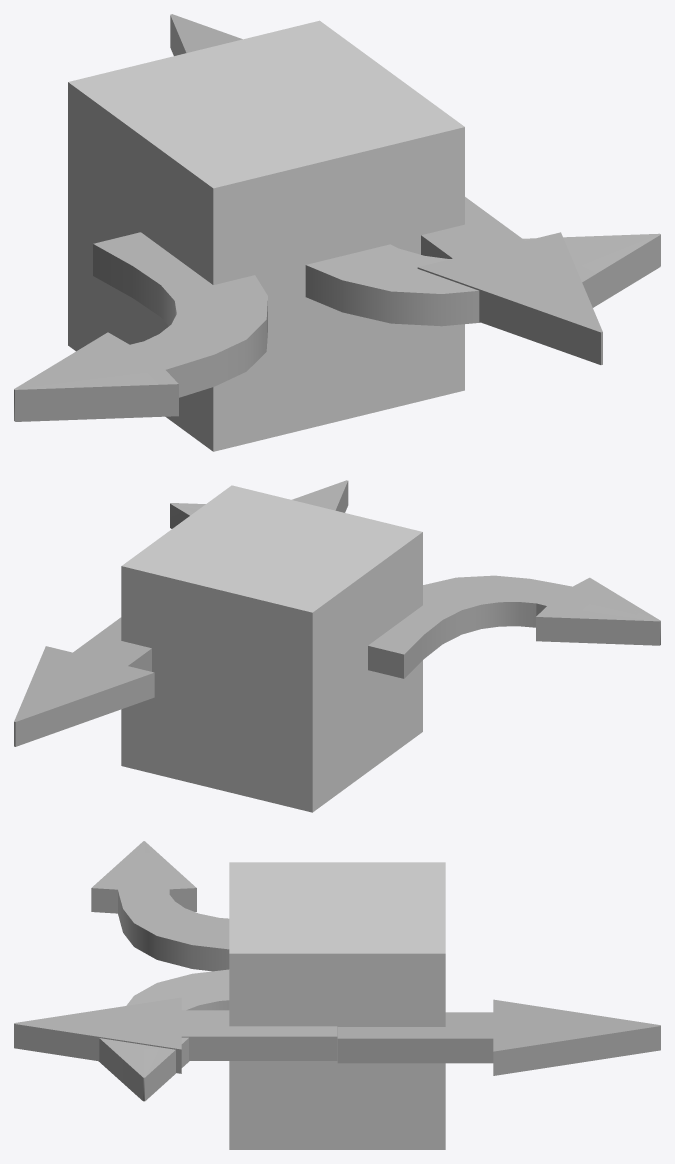
File: player_arrow.glb
The picture shows the model from 3 angles, top to bottom: view 1: azimuth 30°, elevation 25°; view 2: azimuth 150°, elevation 25°; view 3: azimuth 270°, elevation 25°; orthographic projection. The views are drawn at different scales.
Visible parts, largest first — view 1: leftReturnArrow, leftArrow, upArrow, rightArrow, downArrow; view 2: leftReturnArrow, leftArrow, downArrow, upArrow, rightArrow; view 3: leftReturnArrow, downArrow, upArrow, leftArrow, rightArrow.
Boxes of the visible parts, left/top/right/bottom form: leftReturnArrow: left=68, top=20, right=464, bottom=451; leftArrow: left=14, top=232, right=267, bottom=421; upArrow: left=417, top=197, right=602, bottom=364; rightArrow: left=305, top=233, right=660, bottom=326; downArrow: left=170, top=14, right=242, bottom=55; leftReturnArrow: left=121, top=485, right=422, bottom=812; leftArrow: left=368, top=575, right=660, bottom=678; downArrow: left=14, top=617, right=154, bottom=746; upArrow: left=292, top=480, right=348, bottom=512; rightArrow: left=170, top=503, right=205, bottom=528; leftReturnArrow: left=229, top=862, right=445, bottom=1149; downArrow: left=337, top=999, right=660, bottom=1075; upArrow: left=14, top=997, right=337, bottom=1073; leftArrow: left=91, top=841, right=229, bottom=971; rightArrow: left=99, top=969, right=229, bottom=1101.
Size of the model in its own units: 2.05 by 0.8 by 2.39.
Materials: 1 (1 with a texture image).
